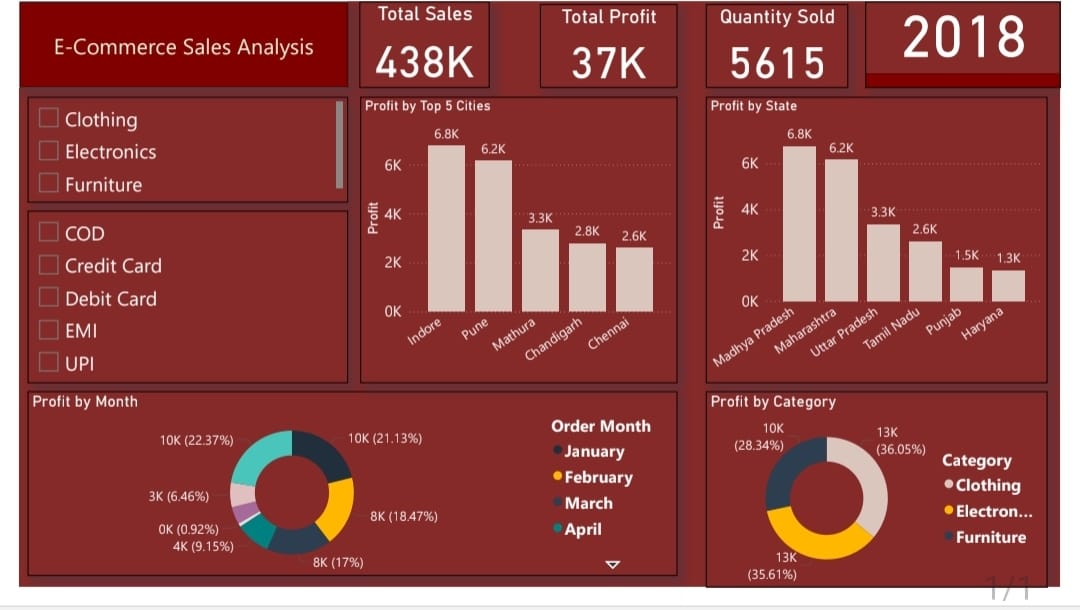

This screenshot's page, from the dashboard's own definition file:
{"tool":"powerbi","page":{"name":"Page 1","canvas":[1280,720],"ordinal":0},"visuals":[{"type":"card","title":"Total Sales","fields":{"Values":["Sum(Details.Amount)"]},"box":[418.3,0,159.6,105.8],"z":0},{"type":"slicer","fields":{"Values":["Details.Category"]},"box":[10,117.1,394.3,130],"z":1000},{"type":"card","title":"Total Profit","fields":{"Values":["Sum(Details.Profit)"]},"box":[640,2.9,168.6,102.9],"z":2000},{"type":"card","title":"Quantity Sold","fields":{"Values":["Sum(Details.Quantity)"]},"box":[844.3,2.9,174.3,102.9],"z":3000},{"type":"shape","box":[0,0,404.3,105.7],"z":4000},{"type":"slicer","fields":{"Values":["Details.PaymentMode"]},"box":[10,257.1,394.3,211.4],"z":5000},{"type":"donutChart","title":"Profit by Month","fields":{"Category":["Orders.Order Date.Variation.Date Hierarchy.Month"],"Y":["Sum(Details.Profit)"]},"box":[10,478.6,798.6,227.1],"z":6000},{"type":"donutChart","title":"Profit by Category","fields":{"Category":["Details.Category"],"Y":["Sum(Details.Profit)"]},"box":[844.3,478.6,420,241.4],"z":7000},{"type":"columnChart","title":"Profit by Top 5 Cities","fields":{"Y":["Sum(Details.Profit)"],"Category":["Orders.City"]},"box":[418.6,117.1,390,351.4],"z":8000},{"type":"columnChart","title":"Profit by State","fields":{"Y":["Sum(Details.Profit)"],"Category":["Orders.State"]},"box":[844.3,117.1,420,351.4],"z":9000},{"type":"shape","title":"2018 ","box":[1040,0,240,105.7],"z":9001}]}

Visuals, with their boxes in screenshot pixels (x1, y1, x2, y2), scaled from the page's 1280x720 canvas onto the 1080x610 screenshot:
"Total Sales" card: BBox(353, 0, 488, 90)
slicer - Details.Category: BBox(8, 99, 341, 209)
"Total Profit" card: BBox(540, 2, 682, 90)
"Quantity Sold" card: BBox(712, 2, 859, 90)
shape: BBox(0, 0, 341, 90)
slicer - Details.PaymentMode: BBox(8, 218, 341, 397)
"Profit by Month" donutChart: BBox(8, 405, 682, 598)
"Profit by Category" donutChart: BBox(712, 405, 1067, 609)
"Profit by Top 5 Cities" columnChart: BBox(353, 99, 682, 397)
"Profit by State" columnChart: BBox(712, 99, 1067, 397)
"2018 " shape: BBox(878, 0, 1079, 90)
